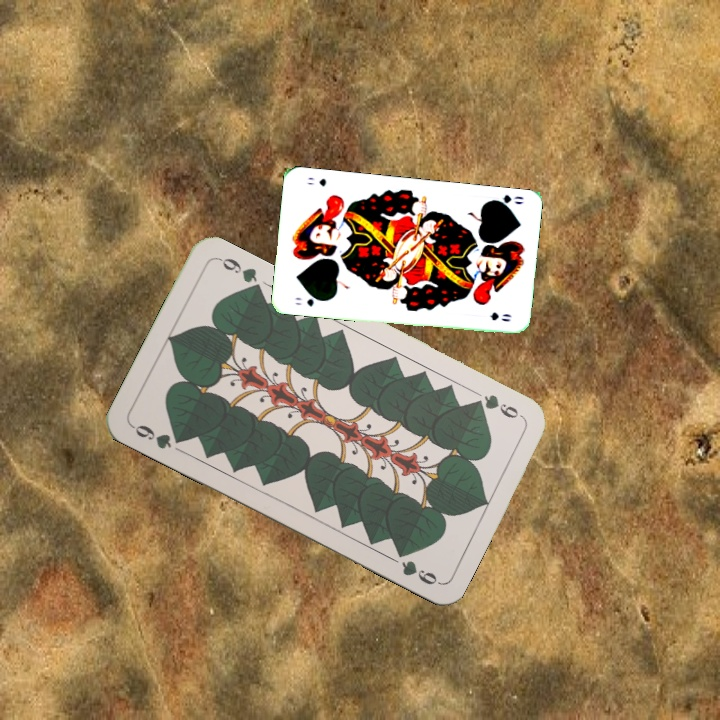G9: (127, 421, 187, 452), (469, 390, 526, 422)
GO: (485, 190, 527, 210), (291, 292, 327, 309)
